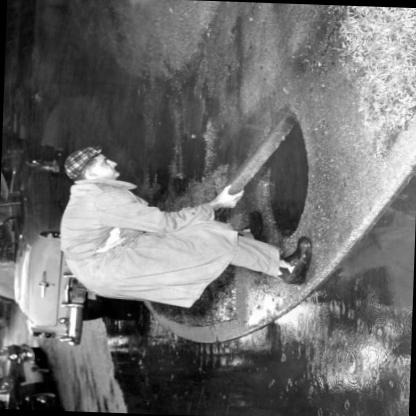manholes: (213, 100, 330, 246)
